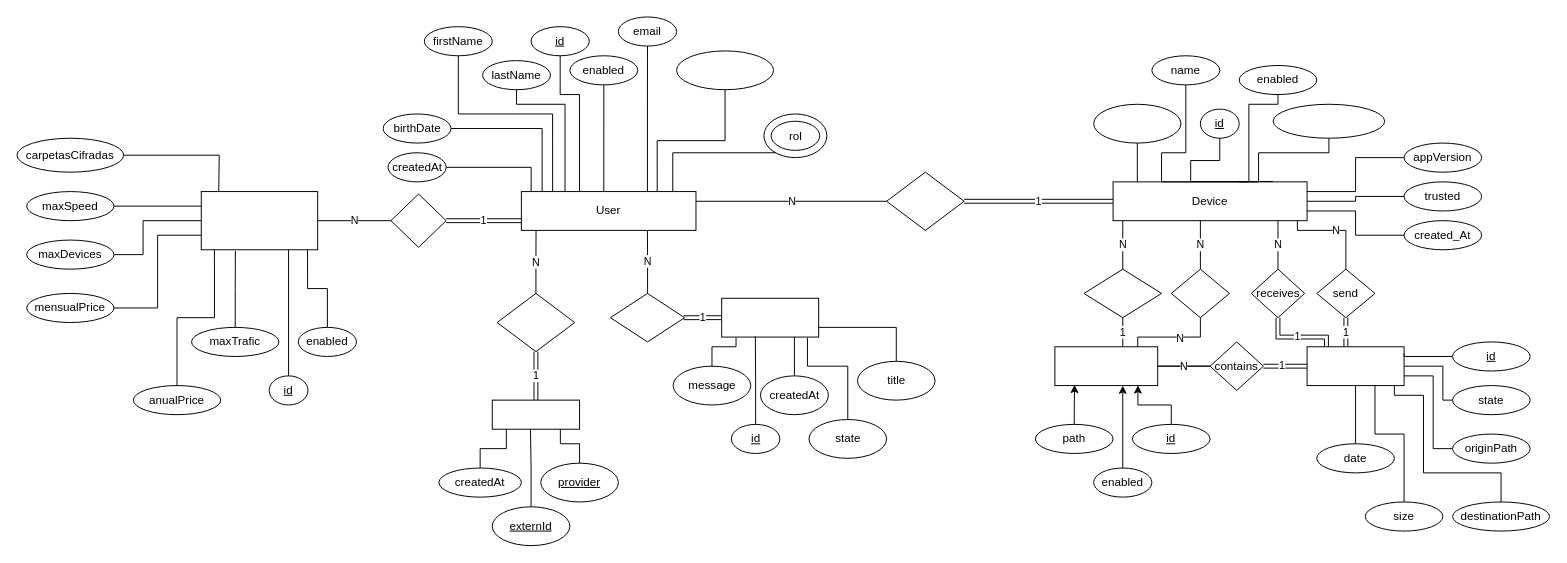
Some shapes in this 1567 by 563 pixel diagram are drawn without their labels. The shapes that lost their labels are listed below. From the top down, each one's box as (x1, y1, x2, y2) in pixels, then its label:
(676, 50, 774, 90): passwordHash
(1093, 103, 1181, 143): lastConection
(1272, 103, 1385, 138): operatingSystem
(200, 191, 318, 250): BilingPlan
(390, 193, 446, 247): buy
(886, 171, 964, 230): Linked
(1083, 268, 1162, 318): shared
(1170, 268, 1229, 318): owner
(496, 292, 575, 352): Autenticated
(609, 292, 685, 342): Create
(721, 297, 819, 337): BugReport
(1054, 346, 1158, 386): Folder
(1306, 346, 1404, 386): Transfer
(491, 399, 580, 429): Credential
